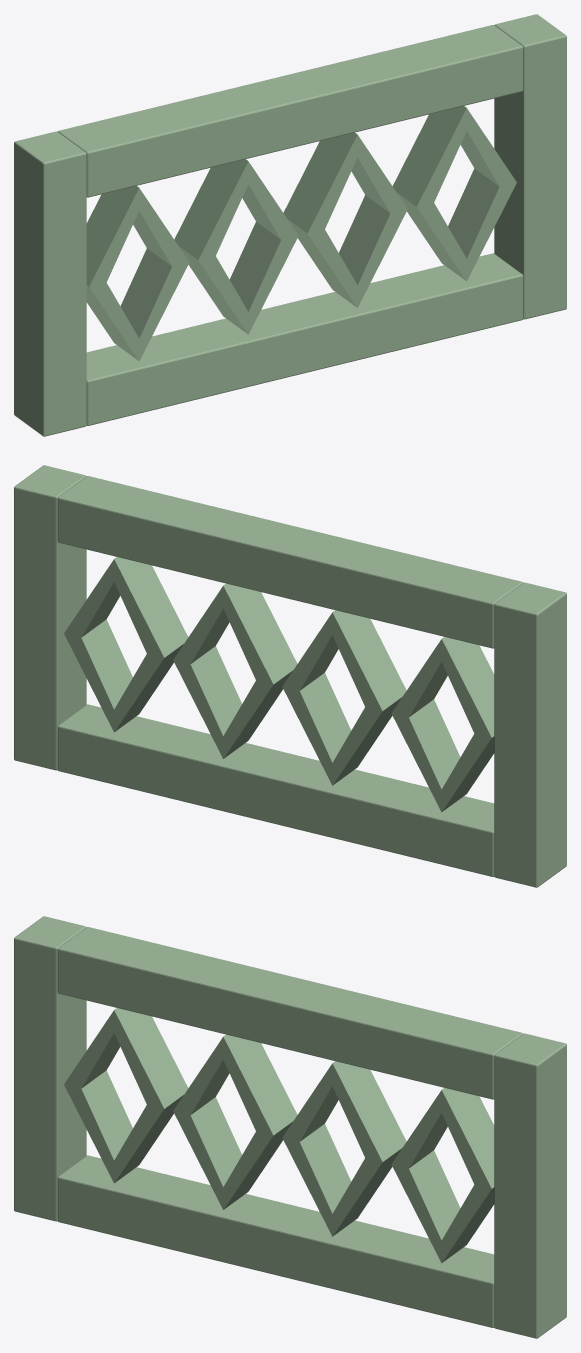
The picture shows the model from 3 angles, top to bottom: view 1: azimuth 30°, elevation 25°; view 2: azimuth 150°, elevation 25°; view 3: azimuth 330°, elevation 25°; orthographic projection.
Visible parts, largest first — view 1: VENT_FrameTop, VENT_FrameBottom, VENT_FrameSide, VENT_FrameSide.001, VENT_Diamond_1_0, VENT_Diamond_2_0, VENT_Diamond_3_0, VENT_Diamond_0_0, VENT_Diamond_1_2, VENT_Diamond_2_2, VENT_Diamond_0_2, VENT_Diamond_3_2 (+8 smaller); view 2: VENT_FrameTop, VENT_FrameBottom, VENT_FrameSide, VENT_FrameSide.001, VENT_Diamond_1_0, VENT_Diamond_2_0, VENT_Diamond_3_0, VENT_Diamond_0_0, VENT_Diamond_1_2, VENT_Diamond_2_2, VENT_Diamond_0_2, VENT_Diamond_3_2 (+8 smaller); view 3: VENT_FrameTop, VENT_FrameBottom, VENT_FrameSide.001, VENT_FrameSide, VENT_Diamond_1_1, VENT_Diamond_2_1, VENT_Diamond_0_1, VENT_Diamond_3_1, VENT_Diamond_2_3, VENT_Diamond_1_3, VENT_Diamond_3_3, VENT_Diamond_0_3 (+8 smaller).
Boxes of the visible parts, box(x1,y1,x2,y2) form: VENT_FrameTop: box(58, 25, 523, 197); VENT_FrameBottom: box(86, 253, 523, 425); VENT_FrameSide: box(14, 131, 86, 436); VENT_FrameSide.001: box(494, 14, 566, 319); VENT_Diamond_1_0: box(174, 159, 248, 260); VENT_Diamond_2_0: box(283, 132, 357, 233); VENT_Diamond_3_0: box(392, 106, 466, 206); VENT_Diamond_0_0: box(86, 186, 139, 286); VENT_Diamond_1_2: box(229, 222, 298, 333); VENT_Diamond_2_2: box(339, 195, 407, 307); VENT_Diamond_0_2: box(120, 248, 189, 360); VENT_Diamond_3_2: box(448, 168, 516, 280); VENT_FrameTop: box(57, 476, 522, 648); VENT_FrameBottom: box(57, 704, 494, 876); VENT_FrameSide: box(494, 582, 566, 887); VENT_FrameSide.001: box(14, 465, 86, 770); VENT_Diamond_1_0: box(332, 610, 406, 711); VENT_Diamond_2_0: box(223, 583, 297, 684); VENT_Diamond_3_0: box(114, 557, 188, 657); VENT_Diamond_0_0: box(441, 637, 494, 737); VENT_Diamond_1_2: box(282, 673, 351, 784); VENT_Diamond_2_2: box(173, 646, 241, 758); VENT_Diamond_0_2: box(391, 699, 460, 811); VENT_Diamond_3_2: box(64, 619, 132, 731); VENT_FrameTop: box(57, 927, 522, 1099); VENT_FrameBottom: box(57, 1155, 494, 1327); VENT_FrameSide.001: box(494, 1033, 566, 1338); VENT_FrameSide: box(14, 916, 86, 1221); VENT_Diamond_1_1: box(223, 1034, 297, 1135); VENT_Diamond_2_1: box(332, 1061, 406, 1162); VENT_Diamond_0_1: box(114, 1008, 188, 1108); VENT_Diamond_3_1: box(441, 1088, 494, 1188); VENT_Diamond_2_3: box(282, 1124, 351, 1235); VENT_Diamond_1_3: box(173, 1097, 241, 1209); VENT_Diamond_3_3: box(391, 1150, 460, 1262); VENT_Diamond_0_3: box(64, 1070, 132, 1182).
Size of the model in its own units: 1.2 by 0.6 by 0.12.
